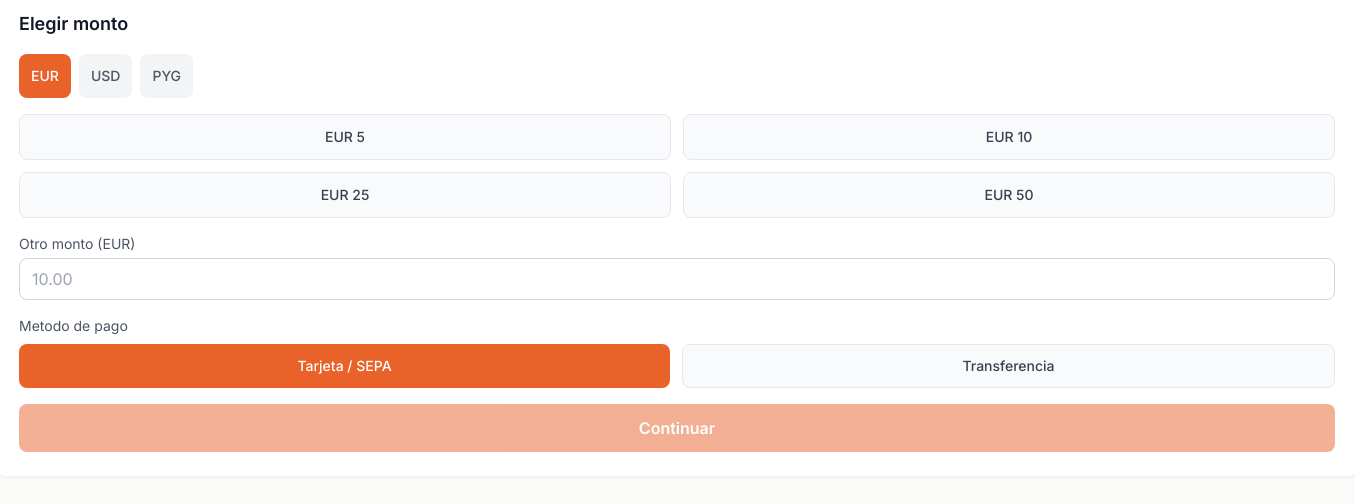
it: DonationForm — amount step › shows error when amount is below campaign minimum
The width and height of the screenshot is (1355, 504).
Type "1" into the number field at (677, 279), box [19,258,1335,300]
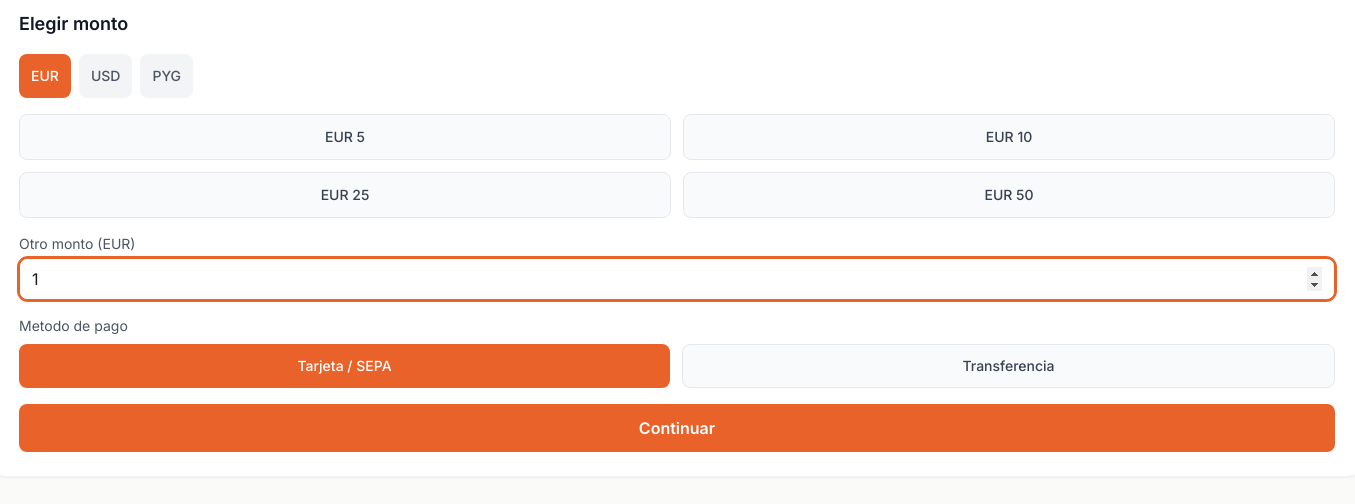
Click the button "Continuar" at (677, 428), box [19,404,1335,452]
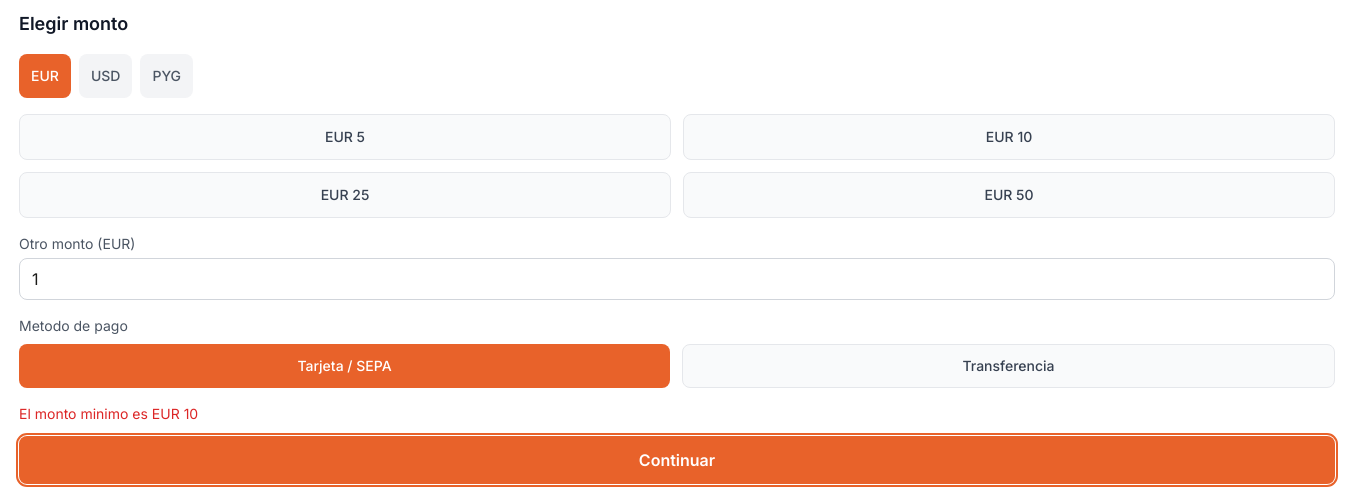
Now the text "El monto minimo es EUR 10" is shown, box [19,405,198,422]
